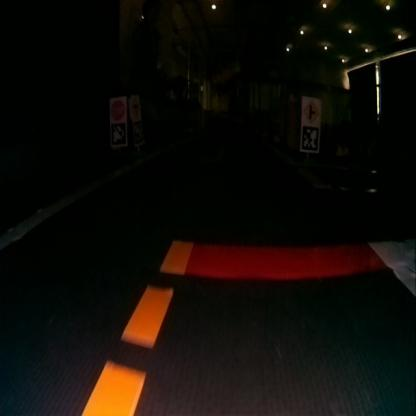Intersection sign: (303, 100, 319, 122), (132, 96, 140, 119)
QR code: (301, 127, 318, 150), (111, 124, 126, 143), (133, 121, 143, 144)
Stop sign: (110, 99, 124, 121)
